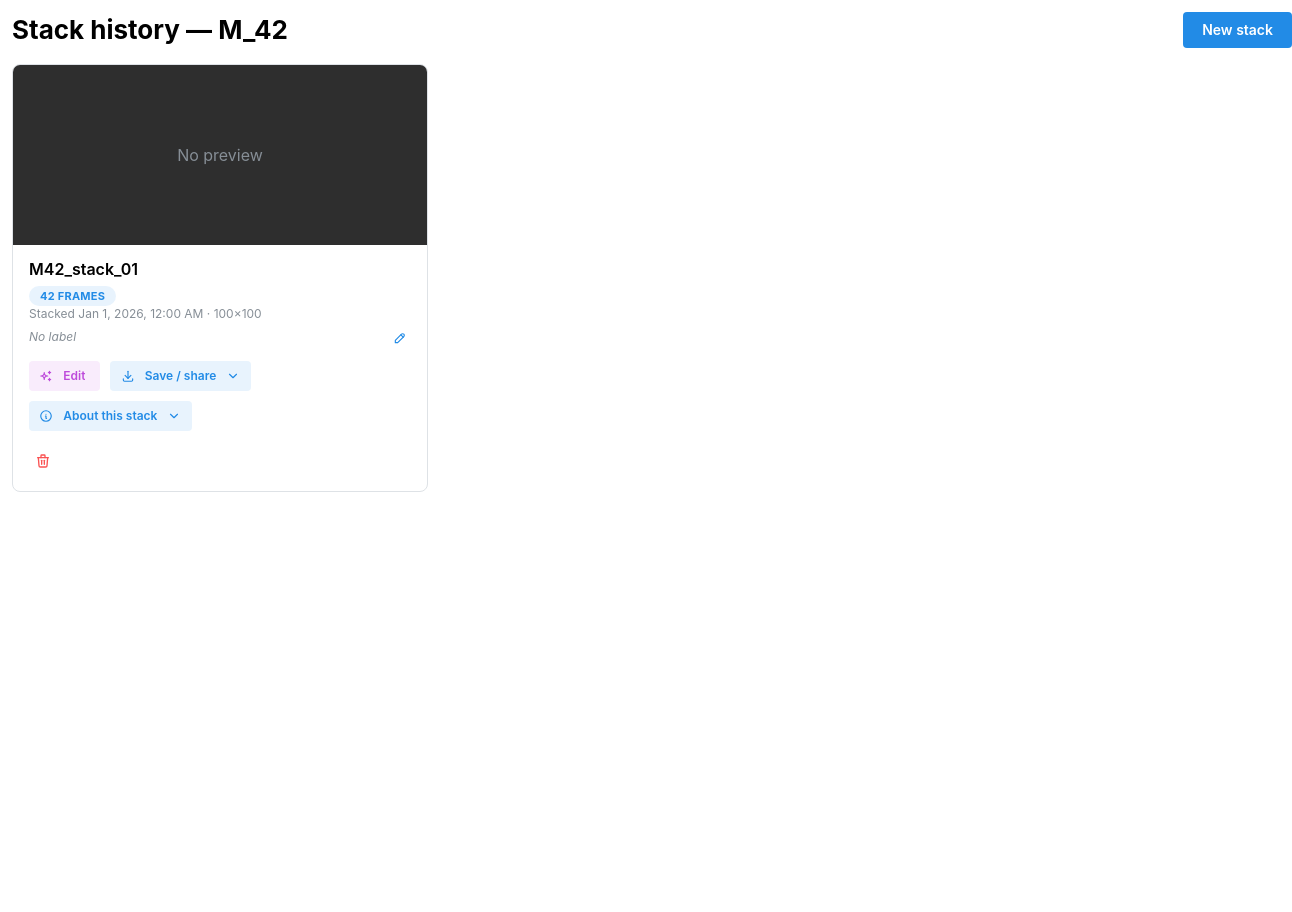
Scenario: HistoryView › deletes a stack and refreshes the list once confirmed
The width and height of the screenshot is (1292, 912).
expect the text "M42_stack_01" is shown: met, box [29,259,138,279]
Click the button named "Delete stack": (43, 461) [29,447,57,475]
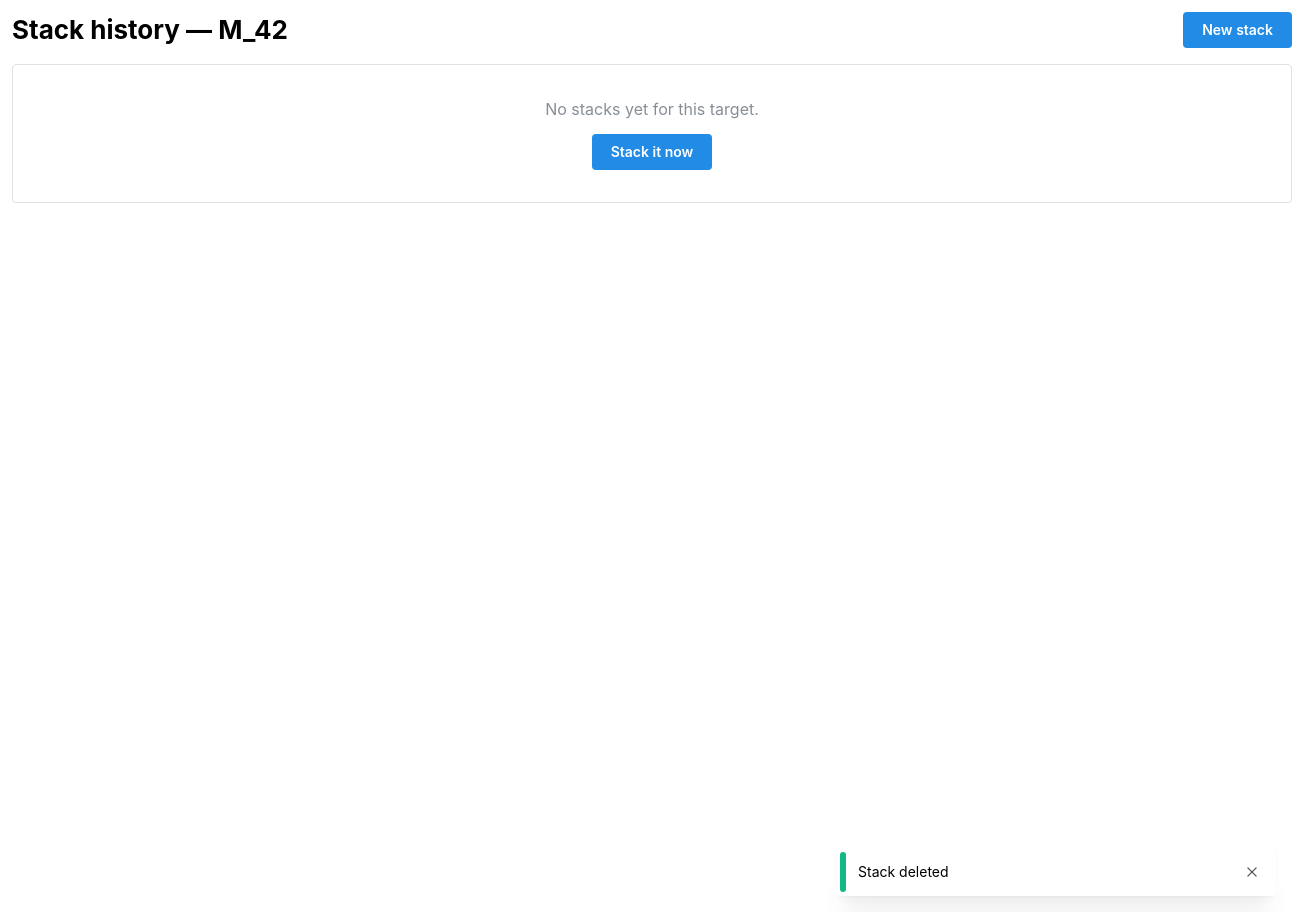
expect the text "M42_stack_01" is gone: met
